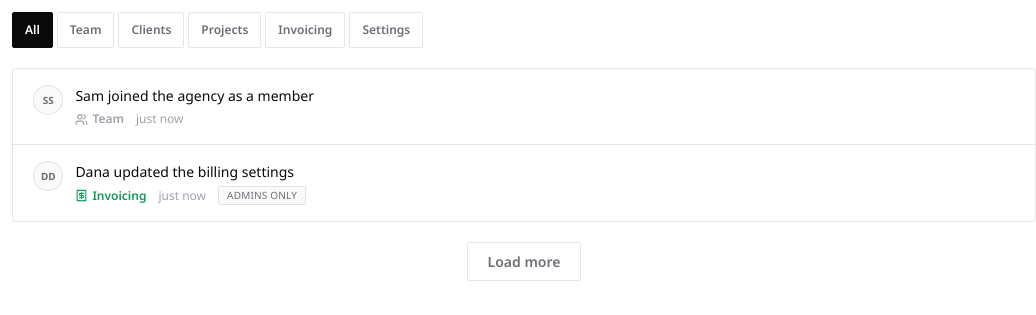
Test: ActivityFeed › appends the next page on Load more
The width and height of the screenshot is (1036, 315).
Click the button "Load more" at (524, 262), box [466,242,582,281]
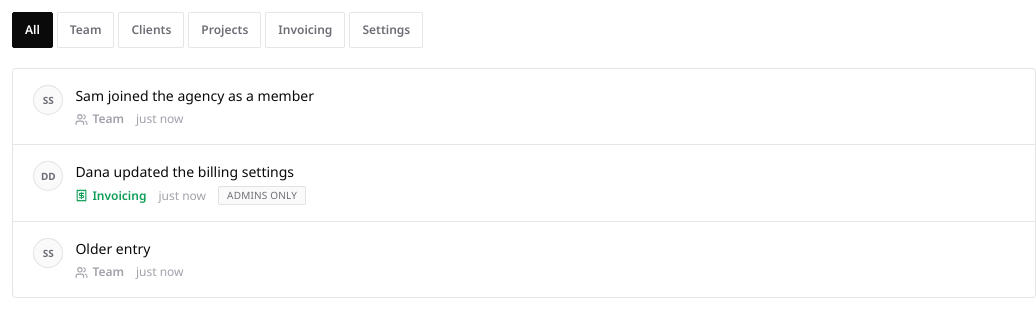
Expected: the text "Sam joined the agency as a member" is shown, [75,85,314,106]
Result: the text "Older entry" is shown at [75,239,150,258]
